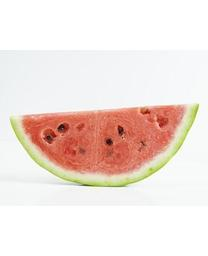watermelon: (8, 102, 200, 189)
